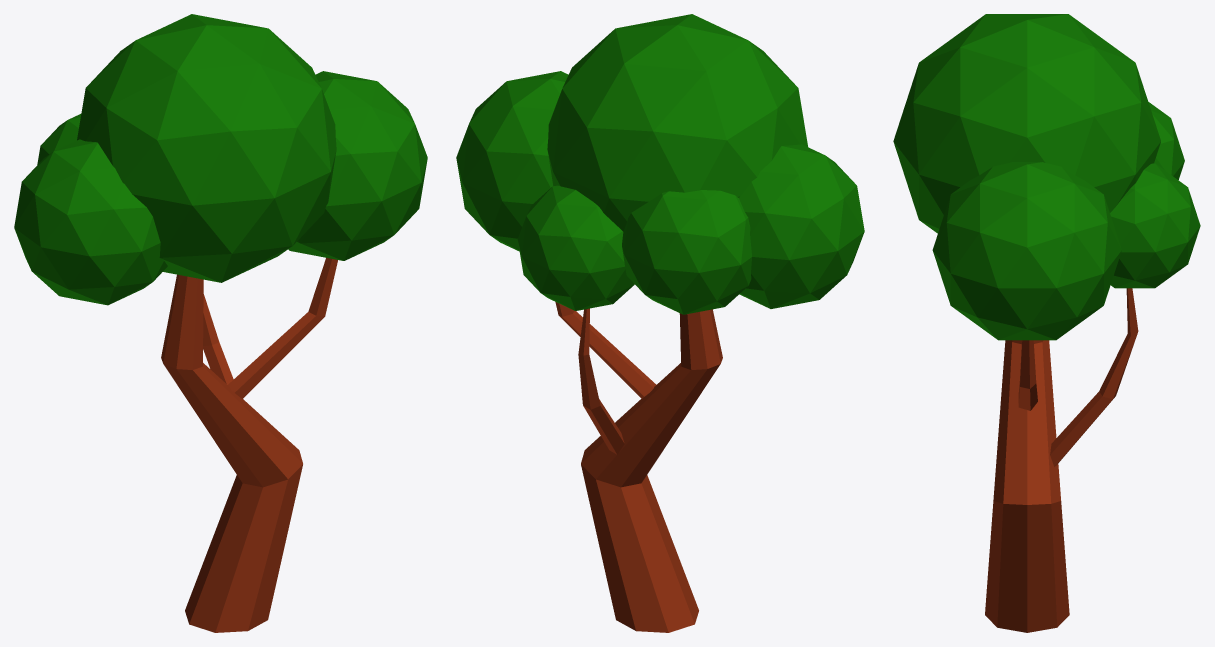
File: Tree001.fbx
The picture shows the model from 3 angles, left to right: view 1: azimuth 30°, elevation 25°; view 2: azimuth 150°, elevation 25°; view 3: azimuth 270°, elevation 25°; orthographic projection.
Visible parts, largest first — view 1: Tree 001; view 2: Tree 001; view 3: Tree 001.
Boxes of the visible parts, box(x1,y1,x2,y2) form: Tree 001: box(14, 14, 427, 632); Tree 001: box(456, 14, 864, 632); Tree 001: box(893, 14, 1200, 632).
Size of the model in its own units: 513 by 762 by 362.
